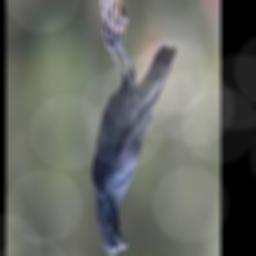Crow: (91, 40, 177, 256)
